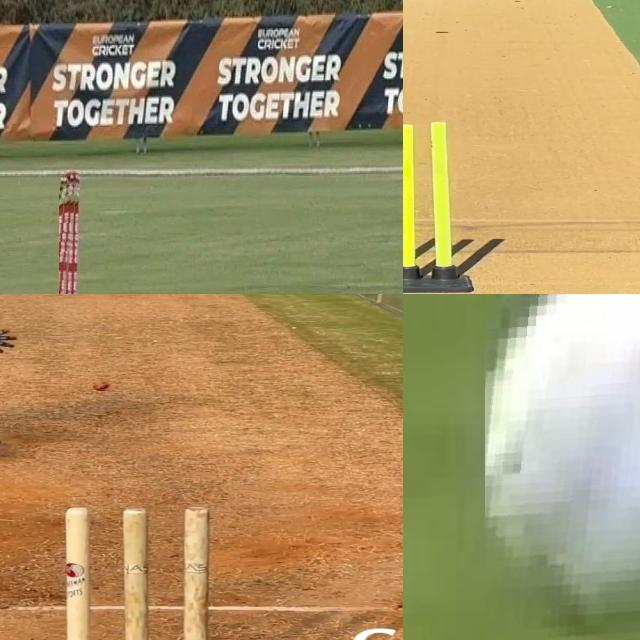Cricket ball: (485, 294, 640, 640), (93, 382, 111, 392)
Stumps: (62, 503, 216, 640), (403, 117, 474, 293), (59, 170, 78, 294)
